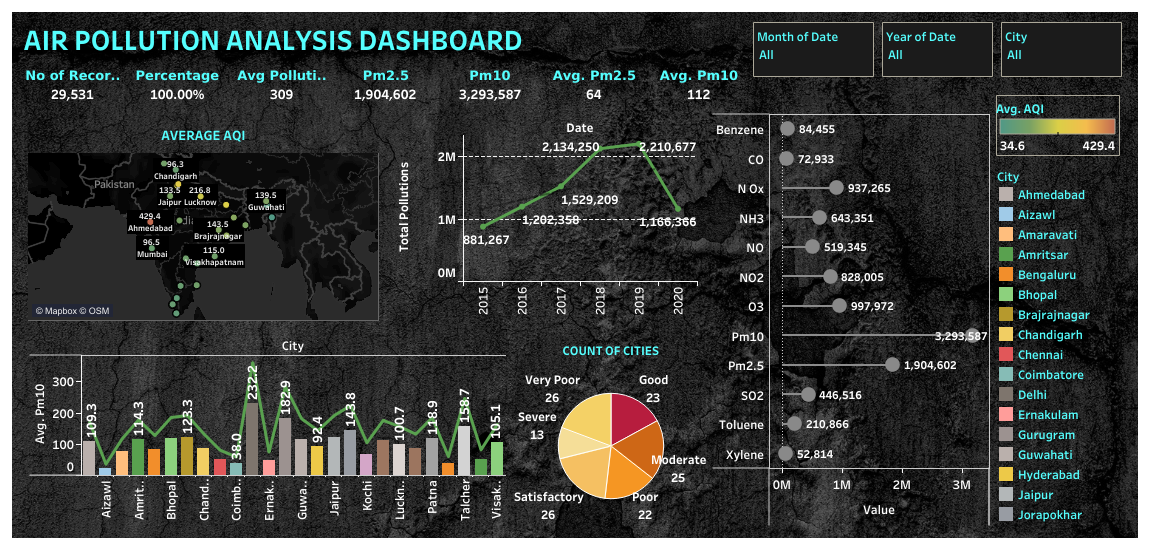

The page's visual inventory and layout, read from the dashboard file:
{"tool":"tableau","page":{"name":"Dashboard 1","canvas":[1150,550],"ordinal":0},"visuals":[{"type":"image","param":"Image/Untitled design.png","box":[8,8,1134,534]},{"type":"text","box":[17,17,738,44]},{"type":"filter","title":"Over all Pollution trend ","param":"[federated.0iu9ikv1nlwq210zwkpxp0ie8yu0].[mn:Date:ok]","box":[749,18.3,129,63.1]},{"type":"filter","title":"Over all Pollution trend ","param":"[federated.0iu9ikv1nlwq210zwkpxp0ie8yu0].[yr:Date:ok]","box":[878,18.3,119,63.1]},{"type":"filter","title":"Over all Pollution trend ","param":"[federated.0iu9ikv1nlwq210zwkpxp0ie8yu0].[none:City:nk]","box":[997,18.3,129,63.1]},{"type":"worksheet","title":"Sheet 9","mark":"Automatic","box":[17,61,738,45]},{"type":"legend","title":"AQI Over by Cities","param":"[federated.0iu9ikv1nlwq210zwkpxp0ie8yu0].[avg:AQI:qk]","box":[992,90.6,132,67]},{"type":"worksheet","title":"Sum of Overall Pollutions","mark":"Bar","box":[713,114,277,412]},{"type":"worksheet","title":"AQI Over by Cities","mark":"Multipolygon","box":[24,115,359,210]},{"type":"worksheet","title":"Over all Pollution trend ","mark":"Automatic","rows":["Calculation_1702079191448834048"],"cols":["Date"],"box":[383,115,318,210]},{"type":"legend","title":"Top 5 Cities by Avg Pm10","param":"[federated.0iu9ikv1nlwq210zwkpxp0ie8yu0].[none:City:nk]","box":[992,157.6,132,369.9]},{"type":"worksheet","title":"Top 5 Cities by Avg Pm10","mark":"Automatic","rows":["PM10","PM10"],"cols":["City"],"box":[26,331,484,197]},{"type":"worksheet","title":"Count Of Cities By AQI Catagery","mark":"Pie","box":[510,331,202,197]}]}

Visuals, with their boxes in screenshot pixels (x1, y1, x2, y2), scaled from the page's 1150x550 canvas onto the 1149x549 screenshot:
image: (8,8,1141,541)
text: (17,17,754,61)
"Over all Pollution trend " filter: (748,18,877,81)
"Over all Pollution trend " filter: (877,18,996,81)
"Over all Pollution trend " filter: (996,18,1125,81)
"Sheet 9" worksheet: (17,61,754,106)
"AQI Over by Cities" legend: (991,90,1123,157)
"Sum of Overall Pollutions" worksheet (Bar marks): (712,114,989,525)
"AQI Over by Cities" worksheet (Multipolygon marks): (24,115,383,324)
"Over all Pollution trend " worksheet: (383,115,700,324)
"Top 5 Cities by Avg Pm10" legend: (991,157,1123,527)
"Top 5 Cities by Avg Pm10" worksheet: (26,330,510,527)
"Count Of Cities By AQI Catagery" worksheet (Pie marks): (510,330,711,527)
